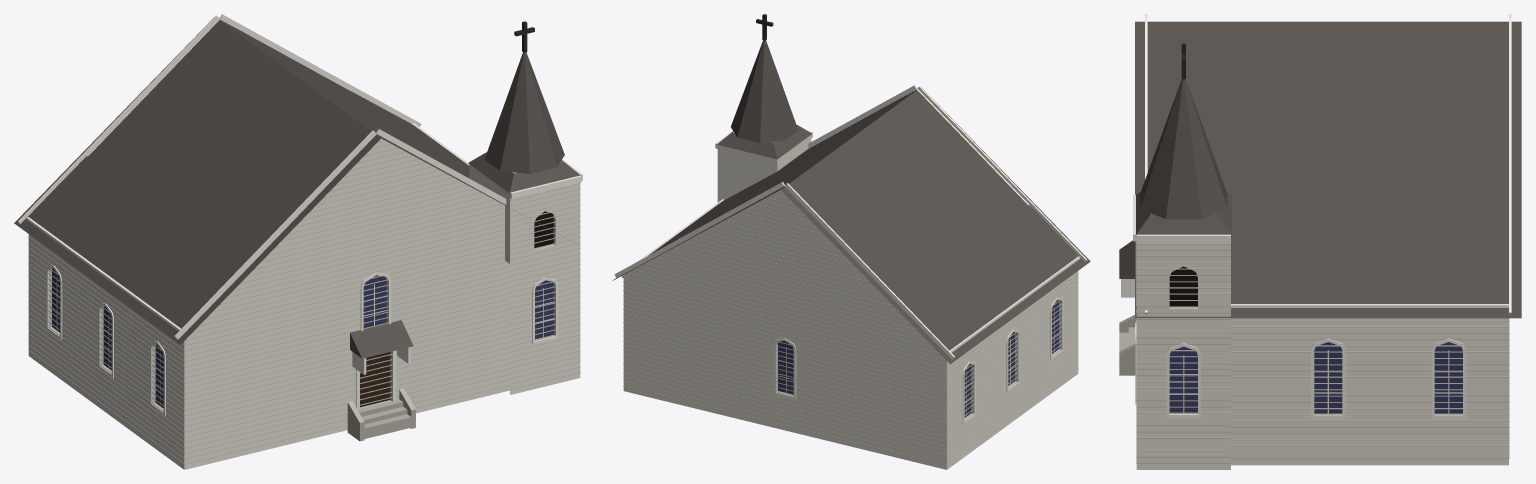
Rendered from ch-barring-cross-baptist-1913.glb.
3 views of the same model, side by side, from view 1: azimuth 30°, elevation 25°; view 2: azimuth 150°, elevation 25°; view 3: azimuth 270°, elevation 25° (orthographic). The views are drawn at different scales.
Parts seen in each view (by area): view 1: ch_brick, ch_roof, ch_brick2, ch_trim, ch_roof2, ch_stain, ch_conc, ch_door; view 2: ch_brick, ch_roof, ch_brick2, ch_trim, ch_roof2, ch_stain; view 3: ch_roof, ch_brick, ch_brick2, ch_roof2, ch_trim, ch_stain, ch_conc, ch_shadow.
Boxes of the visible parts, box(x1,y1,x2,y2) form: ch_brick: box(28, 138, 580, 469); ch_roof: box(14, 17, 579, 344); ch_brick2: box(28, 30, 580, 464); ch_trim: box(18, 14, 582, 415); ch_roof2: box(350, 52, 580, 358); ch_stain: box(52, 268, 553, 408); ch_conc: box(347, 388, 415, 441); ch_door: box(360, 352, 390, 407); ch_brick: box(623, 133, 1078, 469); ch_roof: box(612, 87, 1090, 364); ch_brick2: box(623, 140, 1078, 465); ch_trim: box(614, 85, 1087, 424); ch_roof2: box(717, 40, 812, 159); ch_stain: box(778, 300, 1058, 417); ch_roof: box(1135, 21, 1521, 318); ch_brick: box(1136, 243, 1508, 469); ch_brick2: box(1136, 237, 1509, 463); ch_roof2: box(1119, 79, 1231, 278); ch_trim: box(1121, 14, 1511, 418); ch_stain: box(1169, 342, 1462, 413); ch_conc: box(1119, 315, 1136, 375); ch_shadow: box(1169, 266, 1197, 306).
Size of the model in its own units: 17.23 by 14.35 by 12.8.
